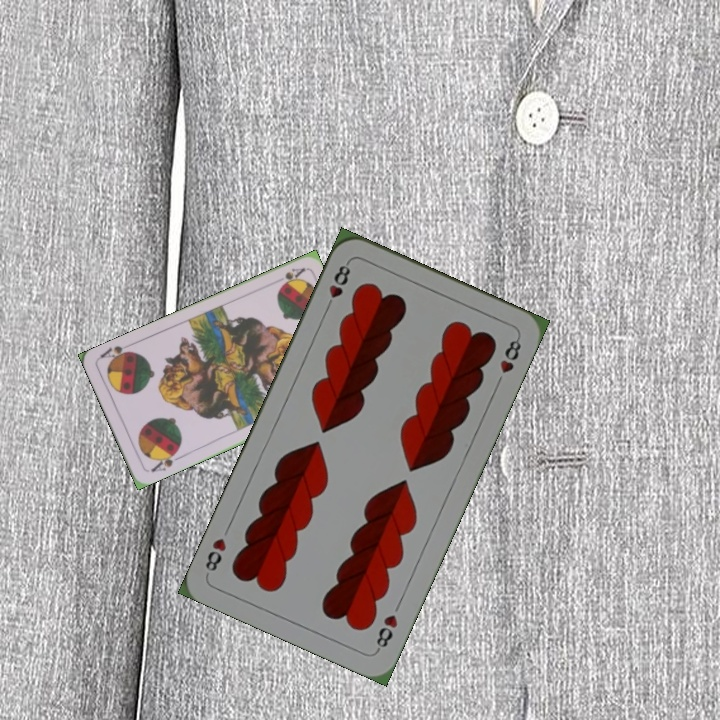H8: (321, 257, 353, 313), (372, 610, 401, 654)
SA: (147, 446, 184, 475), (275, 264, 307, 291)
